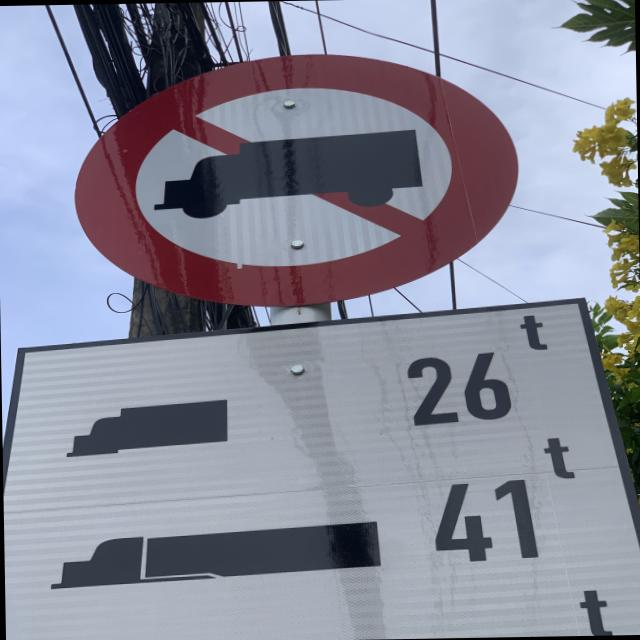Cam_Xe_Tai: (72, 49, 520, 308)
